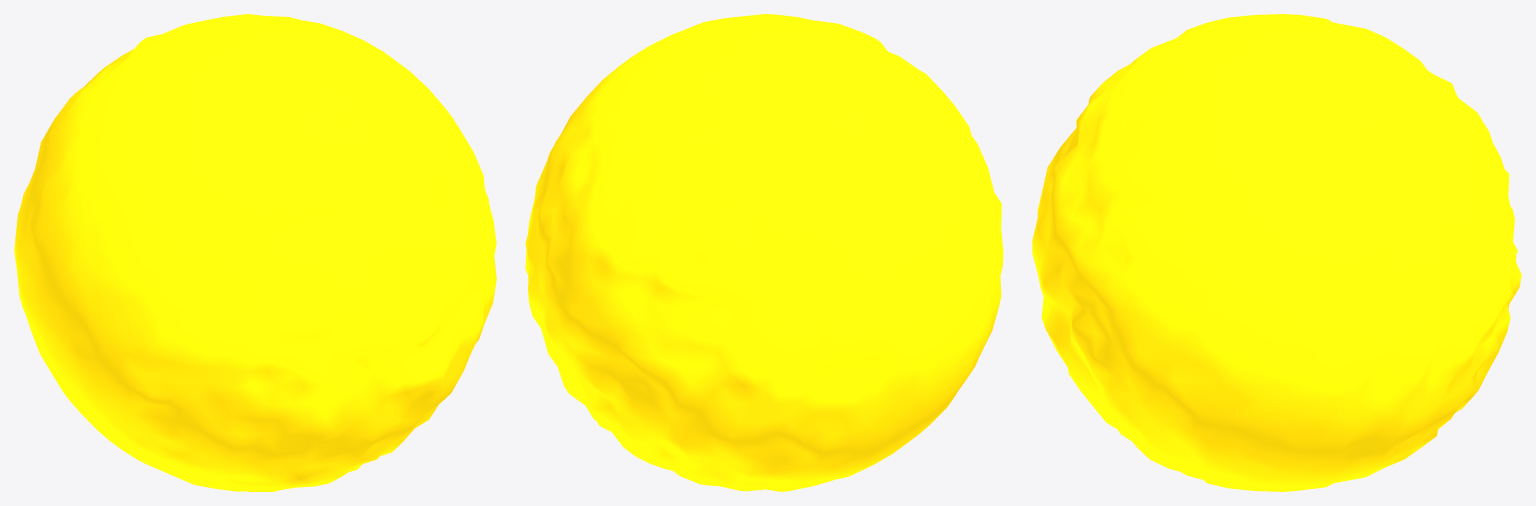
The model's file is sun_animated.glb.
3 views of the same model, side by side, from view 1: azimuth 30°, elevation 25°; view 2: azimuth 150°, elevation 25°; view 3: azimuth 270°, elevation 25° (orthographic).
Parts seen in each view (by area): view 1: GeoSphere002; view 2: GeoSphere002; view 3: GeoSphere002.
Boxes of the visible parts, left/top/right/bottom form: GeoSphere002: left=14, top=14, right=496, bottom=491; GeoSphere002: left=525, top=14, right=1003, bottom=491; GeoSphere002: left=1032, top=14, right=1521, bottom=491.
Bounding box in the file's own units: 2.13 × 2.13 × 2.18.
